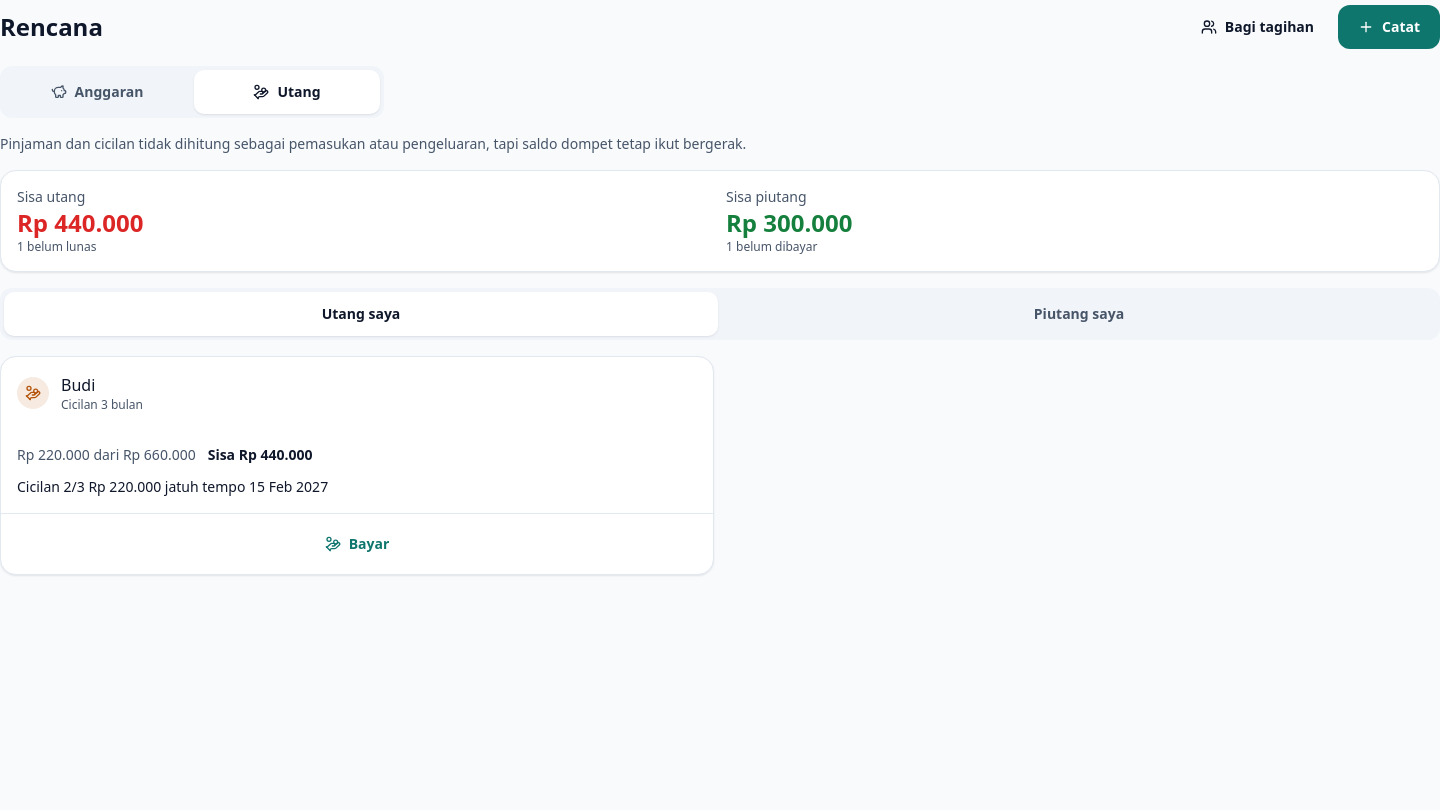
Test: DebtsPage › bayar: nominal cicilan berikutnya, dompet utang terpilih, Idempotency-Key
Click the button with aria-label "Bayar utang ke Budi": (357,544) [9, 522, 705, 566]
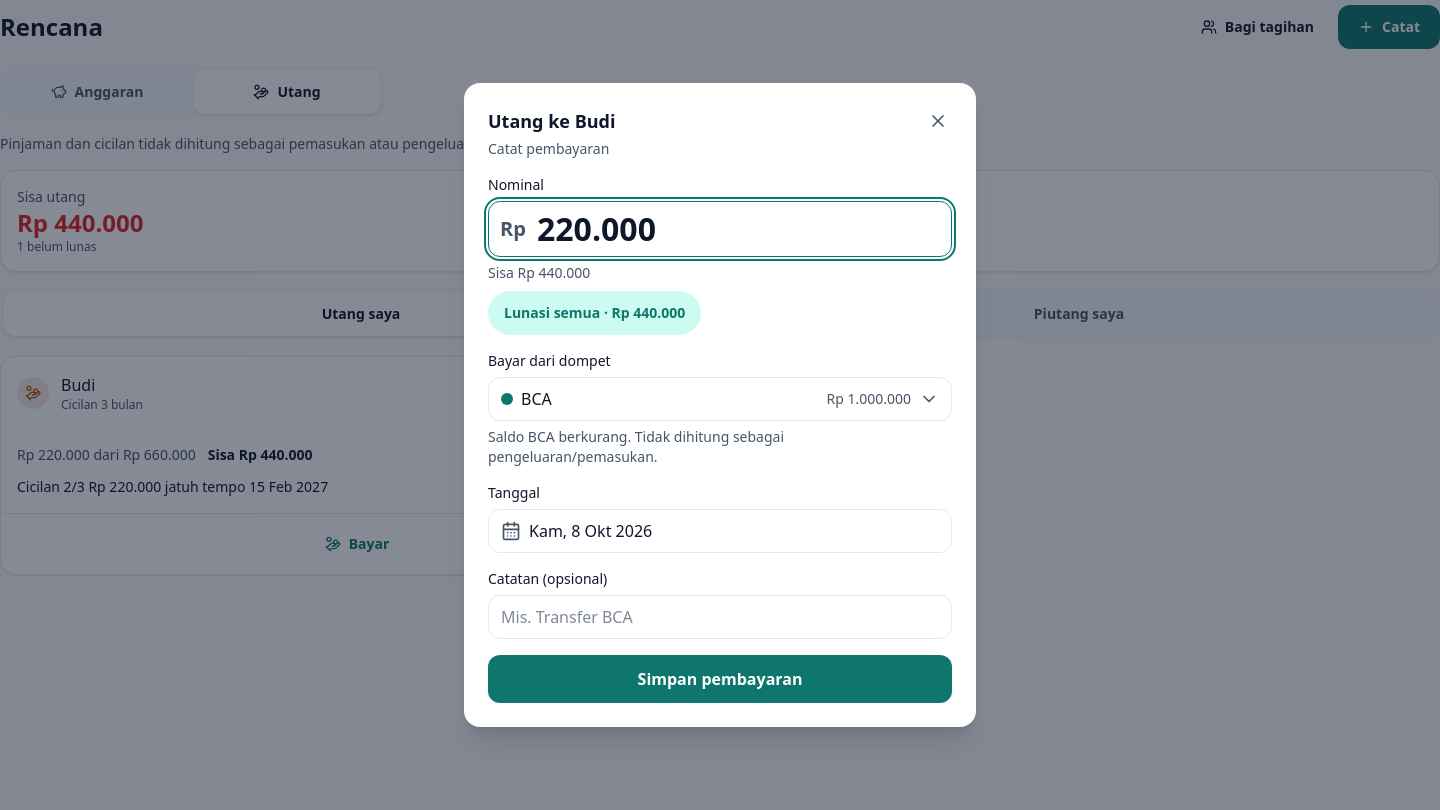
Check: the dropdown named "Bayar dari dompet" shows "BCA", box [488, 377, 952, 421]
Click the button "Simpan pembayaran": (720,679) [488, 655, 952, 703]
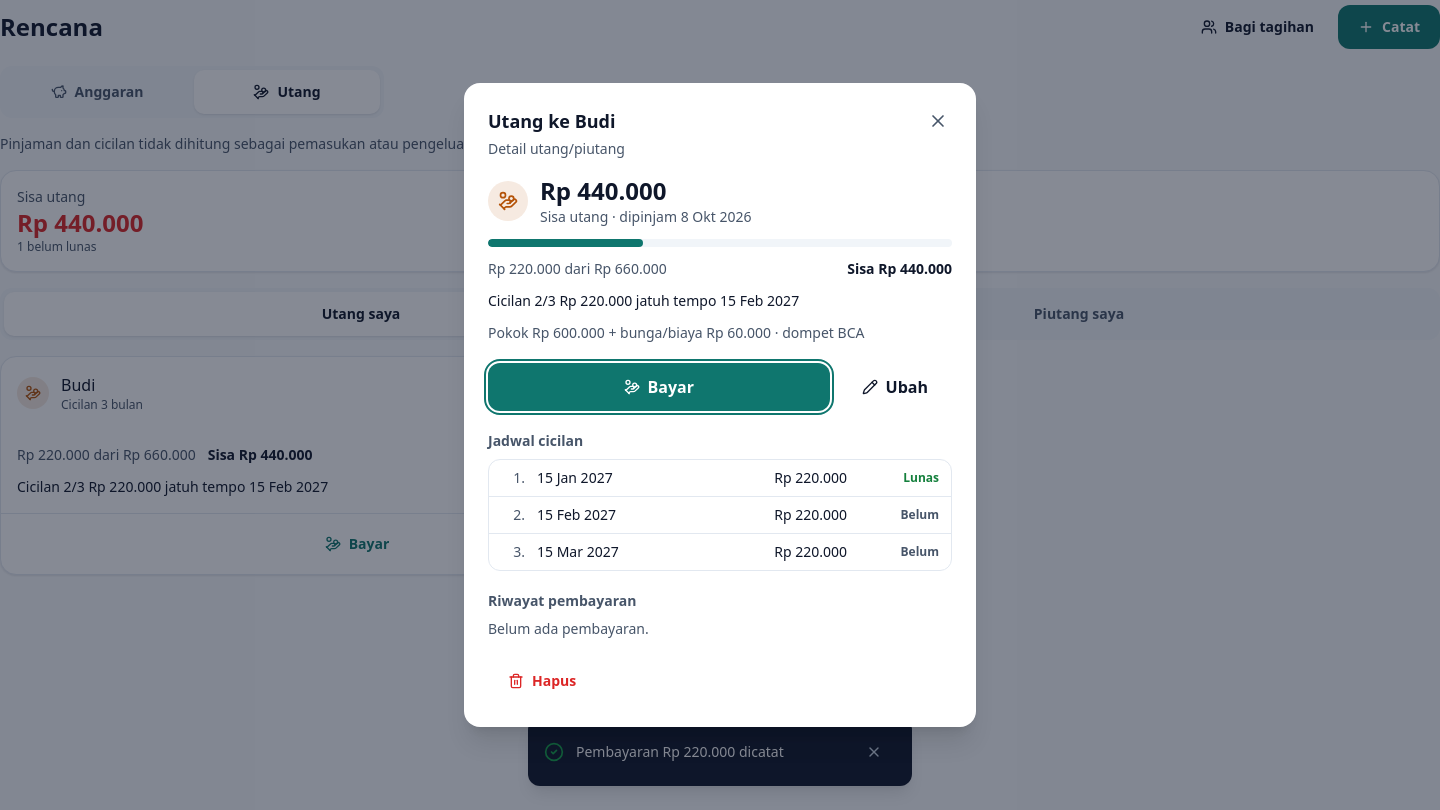
Check: the text "Pembayaran Rp 220.000 dicatat" is shown, box [576, 742, 784, 761]
